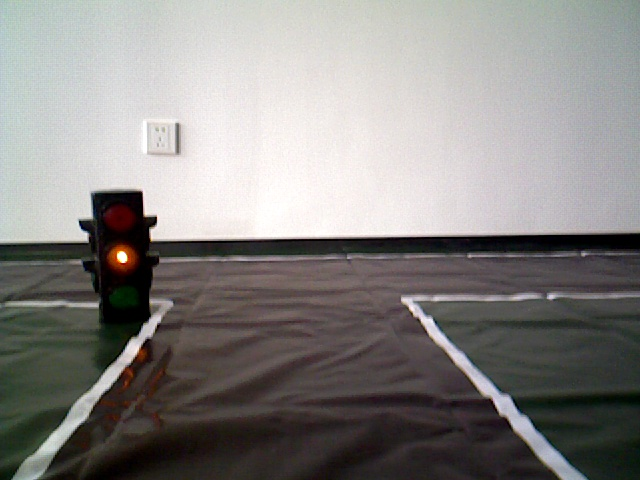yellow: (88, 186, 152, 324)
